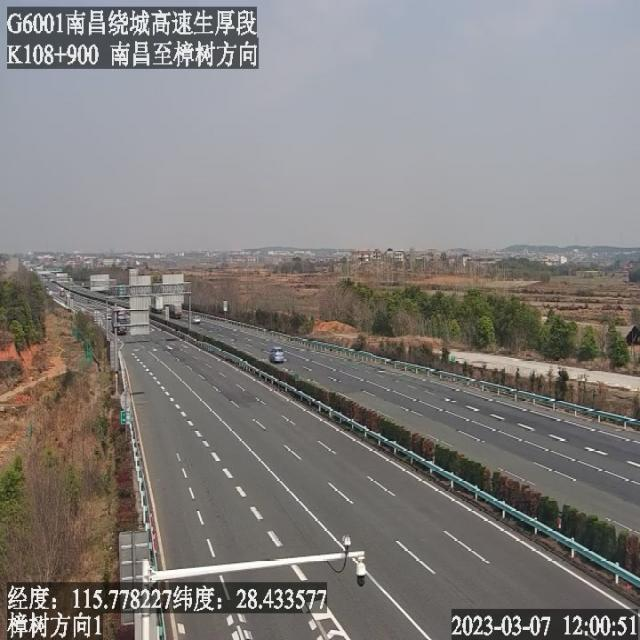point: (32, 256, 70, 296)
